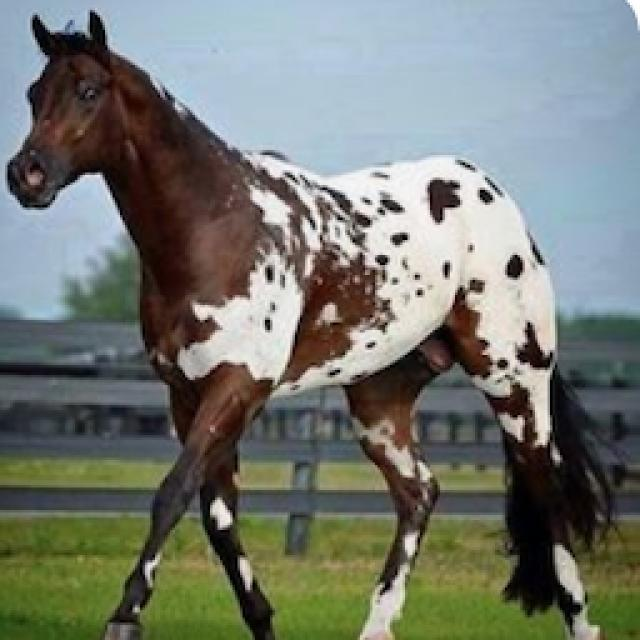Horse: (2, 5, 630, 638)
